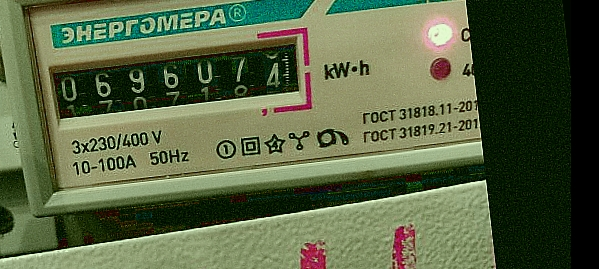0: (57, 72, 79, 103), (192, 56, 214, 85)
4: (261, 60, 282, 90)
6: (159, 59, 181, 89), (91, 69, 112, 98)
7: (227, 52, 249, 84)
9: (125, 65, 146, 95)
screen: (34, 22, 321, 140)
